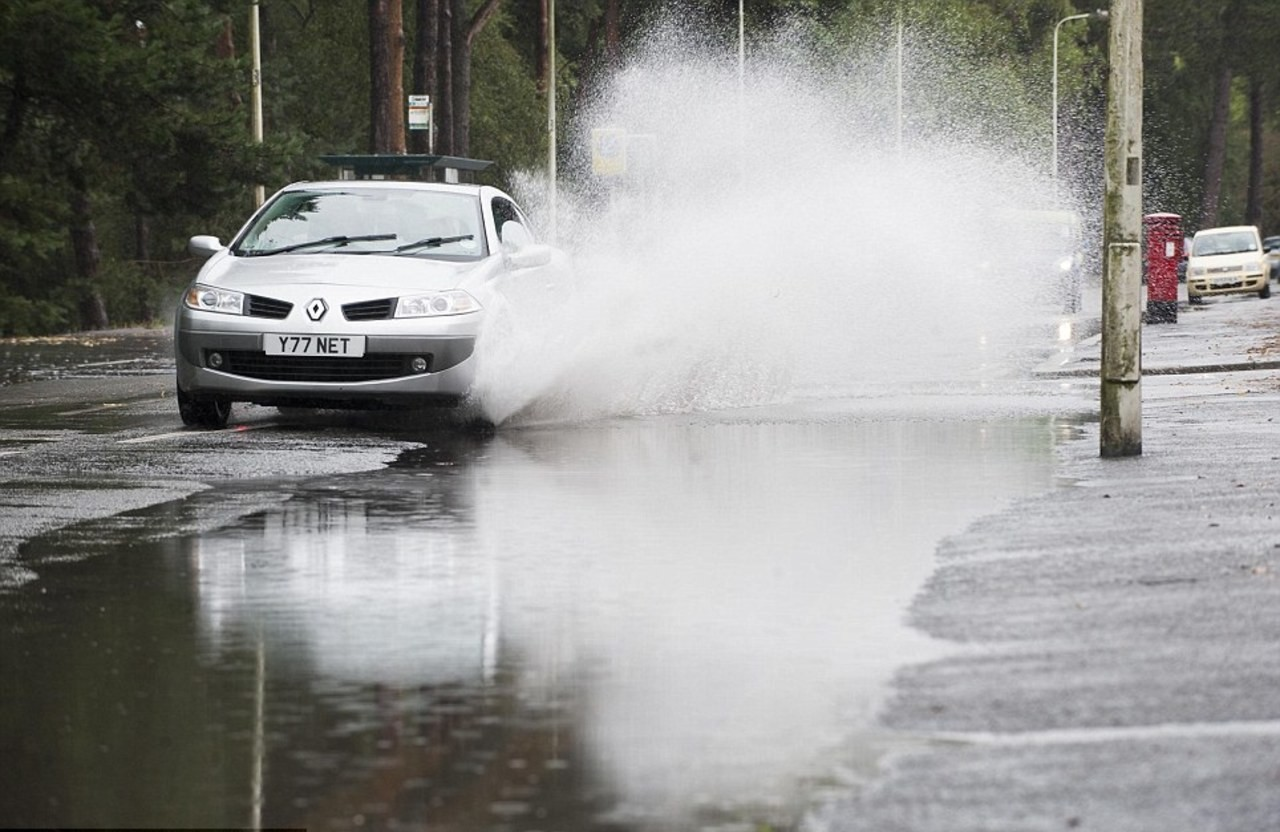car: (170, 172, 558, 428), (970, 208, 1085, 316), (1184, 224, 1271, 299)
